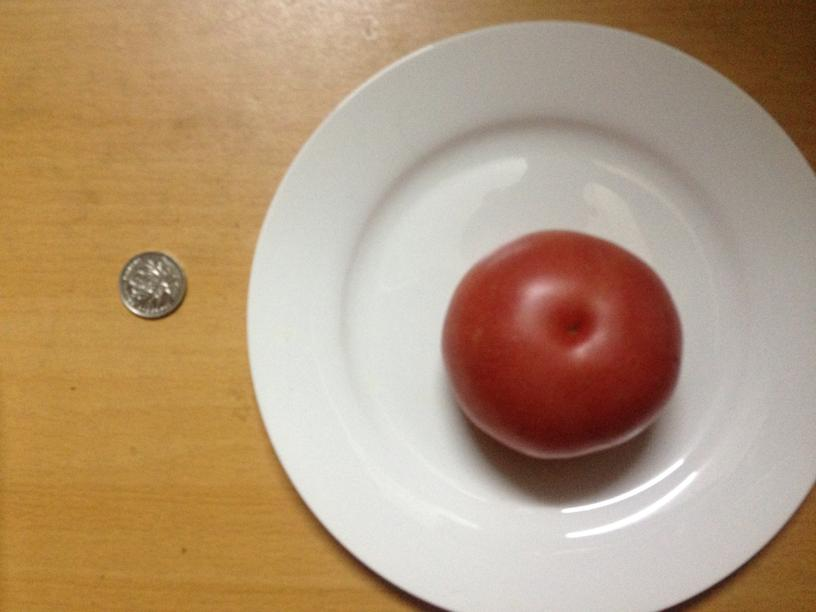coin: (116, 250, 186, 318)
tomato: (449, 236, 684, 462)
